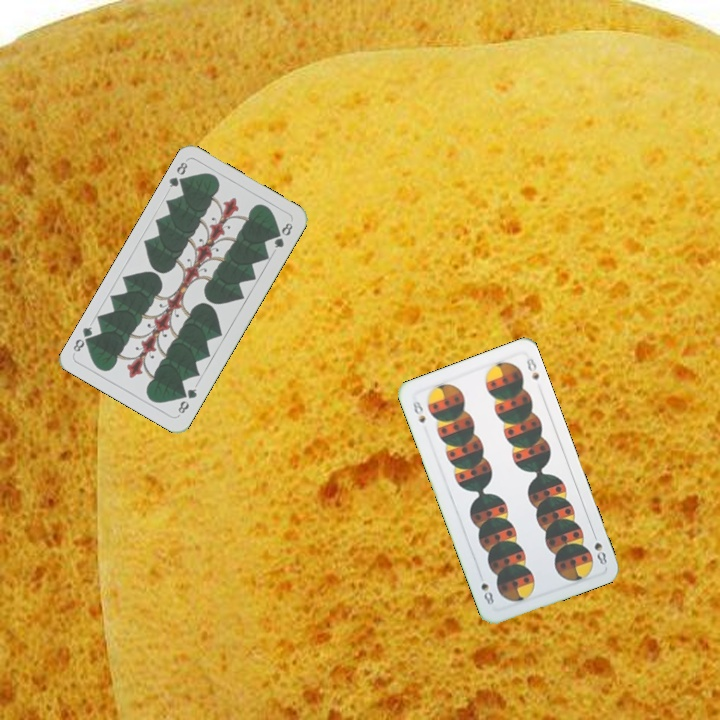G8: (174, 384, 200, 416), (165, 158, 190, 190)
S8: (588, 528, 610, 568), (408, 397, 428, 426)
